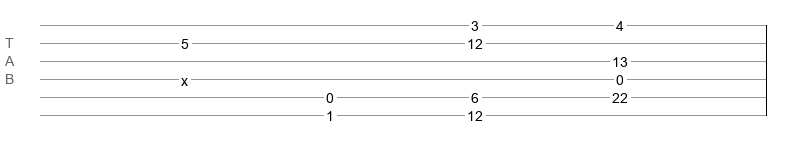0: (326, 90, 334, 100), (616, 72, 624, 82)
1: (326, 108, 334, 118)
12: (467, 36, 483, 46), (467, 108, 483, 118)
13: (612, 54, 628, 64)
22: (612, 90, 628, 100)
3: (471, 18, 479, 28)
4: (616, 18, 624, 28)
5: (181, 36, 189, 46)
6: (471, 90, 479, 100)
x: (181, 73, 188, 81)
